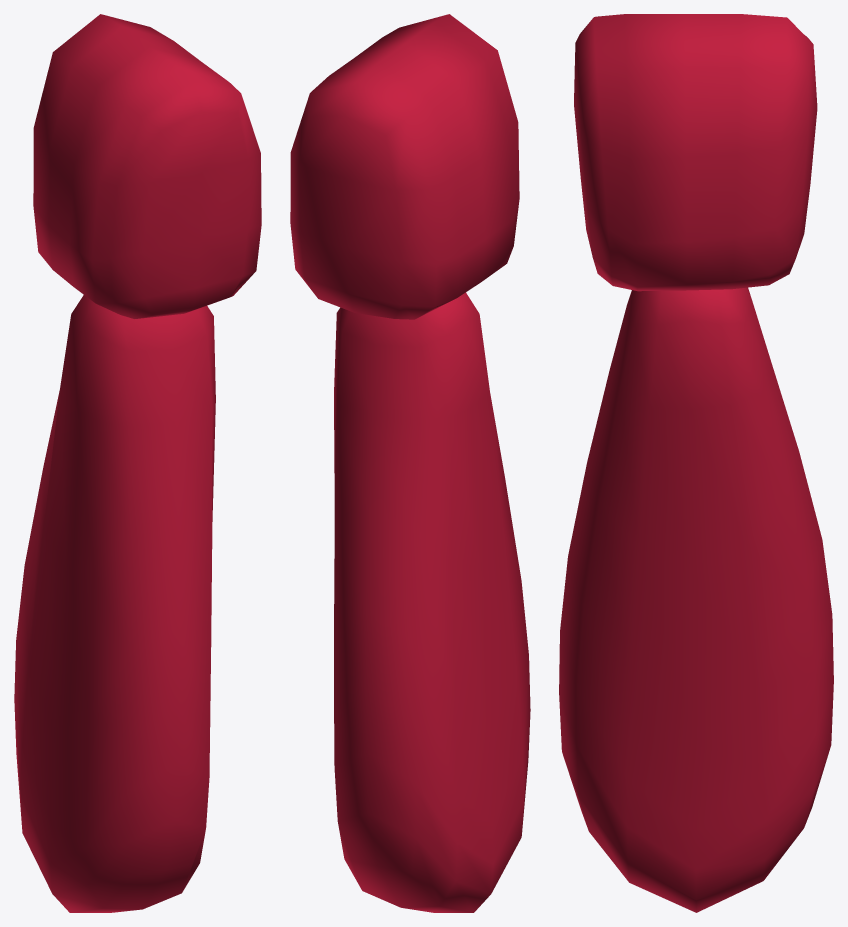
File: Cravate.fbx
The picture shows the model from 3 angles, left to right: view 1: azimuth 30°, elevation 25°; view 2: azimuth 150°, elevation 25°; view 3: azimuth 270°, elevation 25°; orthographic projection. The views are drawn at different scales.
Parts seen in each view (by area): view 1: bas cravate.001; view 2: bas cravate.001; view 3: bas cravate.001.
Part boxes in pixels (x1,y1,x2,y2): bas cravate.001: (14,14,261,912); bas cravate.001: (290,14,530,912); bas cravate.001: (559,14,833,912).
Size of the model in its own units: 5.31 by 25.15 by 6.95.
